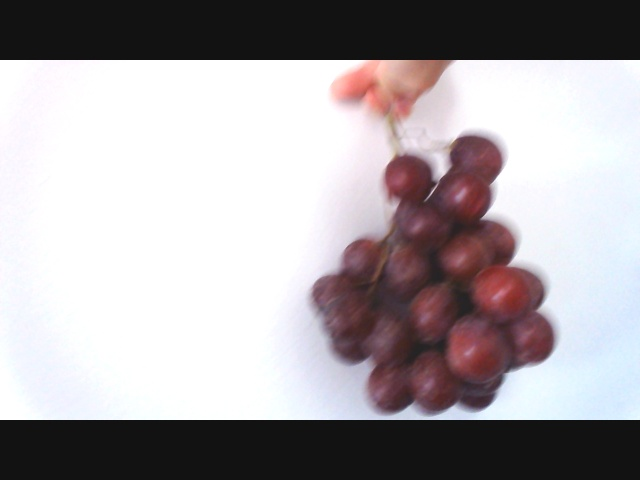grape: (298, 143, 555, 413)
